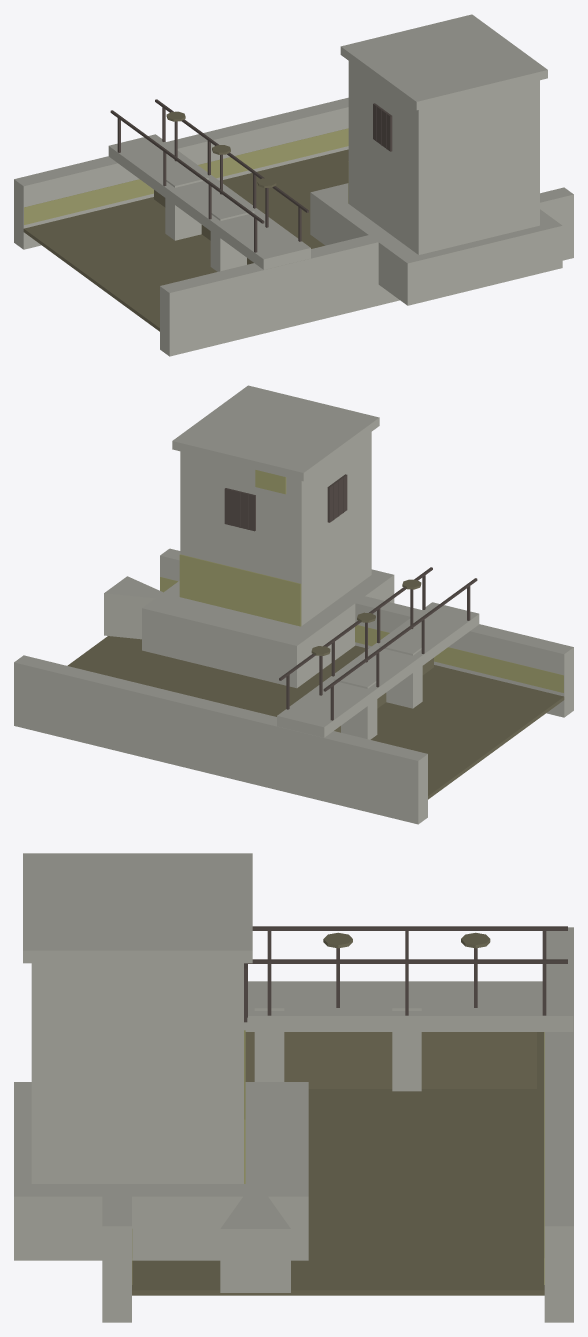
Rendered from SM_CasetaCompuertas_v0_Foto_LOD0.fbx.
The picture shows the model from 3 angles, top to bottom: view 1: azimuth 30°, elevation 25°; view 2: azimuth 150°, elevation 25°; view 3: azimuth 270°, elevation 25°; orthographic projection. The views are drawn at different scales.
Parts seen in each view (by area): view 1: SM_bloques.caseta_compuertas_v0_LOD0; view 2: SM_bloques.caseta_compuertas_v0_LOD0; view 3: SM_bloques.caseta_compuertas_v0_LOD0.
Boxes of the visible parts, x1,y1,x2,y2 form: SM_bloques.caseta_compuertas_v0_LOD0: (14,14,573,356); SM_bloques.caseta_compuertas_v0_LOD0: (14,385,573,824); SM_bloques.caseta_compuertas_v0_LOD0: (14,853,573,1322).
Size of the model in its own units: 12.1 by 6.24 by 9.5.
